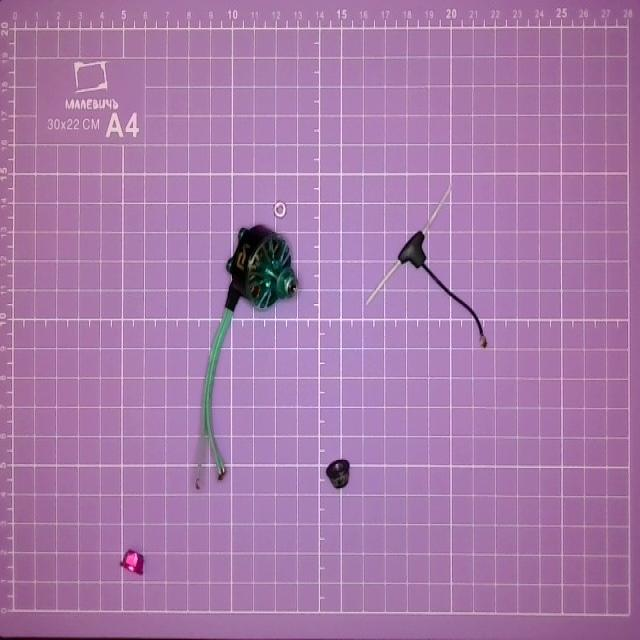antenna: (367, 191, 493, 352)
motor: (197, 224, 298, 490)
screw_M3: (273, 200, 288, 220)
screw_M5: (118, 546, 148, 582), (325, 455, 352, 488)
